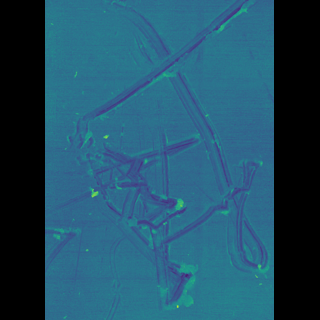Loch: (76, 0, 237, 312)
